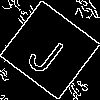J: (25, 25, 72, 78)
